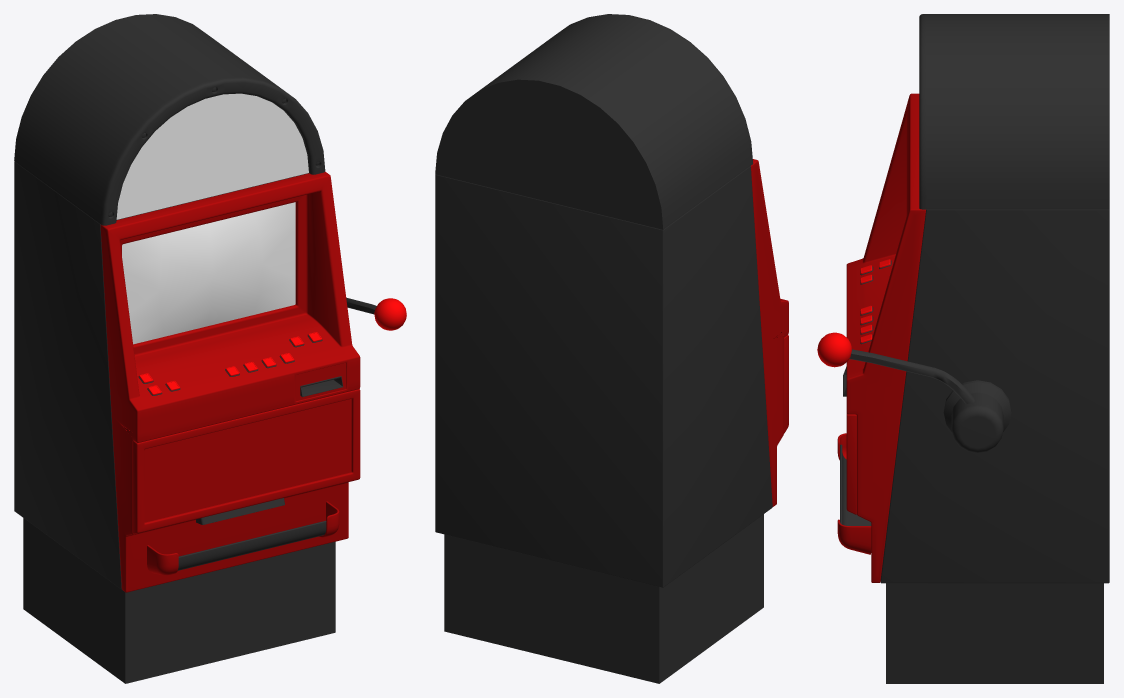
Rendered from Machine.fbx.
3 views of the same model, side by side, from view 1: azimuth 30°, elevation 25°; view 2: azimuth 150°, elevation 25°; view 3: azimuth 270°, elevation 25° (orthographic). The views are drawn at different scales.
Parts seen in each view (by area): view 1: Box03_5, Box03_1, Box03_2, Box03_4, Box03_3, Sphere; view 2: Box03_5, Box03_1; view 3: Box03_5, Box03_1, Cylinder_1, Sweep, Cylinder, Sphere, Box03_3.
Boxes of the visible parts, x1,y1,x2,y2 form: Box03_5: (14, 14, 343, 683); Box03_1: (100, 171, 360, 592); Box03_2: (122, 202, 295, 344); Box03_4: (116, 93, 308, 219); Box03_3: (139, 332, 321, 395); Sphere: (374, 298, 406, 330); Box03_5: (435, 14, 772, 683); Box03_1: (751, 159, 788, 506); Box03_5: (840, 14, 1109, 683); Box03_1: (837, 93, 925, 582); Cylinder_1: (951, 392, 1003, 452); Sweep: (849, 349, 975, 403); Cylinder: (943, 380, 1011, 431); Sphere: (817, 332, 851, 367); Box03_3: (860, 259, 890, 343).
Bounding box in the file's own units: 127 × 258 × 114.
